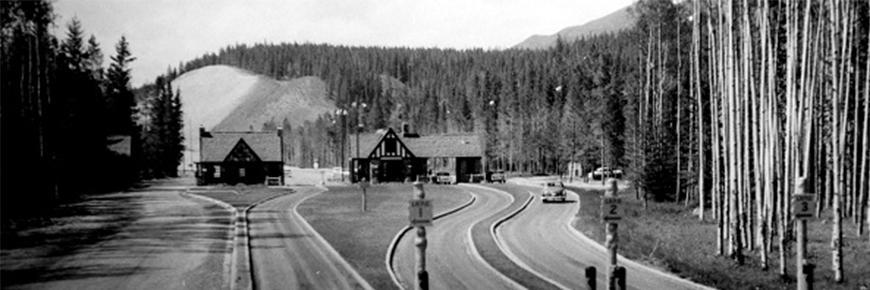car: (538, 177, 567, 207)
house: (343, 123, 499, 187), (196, 124, 287, 191)
streetPlate: (582, 178, 628, 290), (406, 176, 438, 290)
